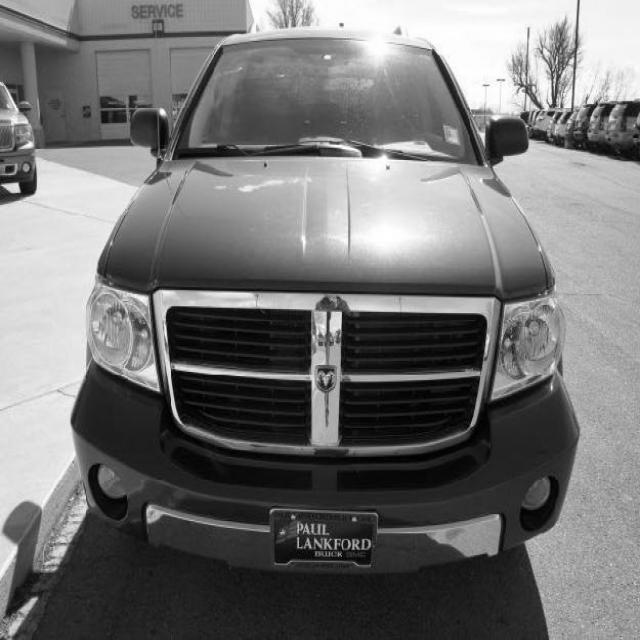car: (69, 22, 580, 576), (0, 80, 37, 194)
